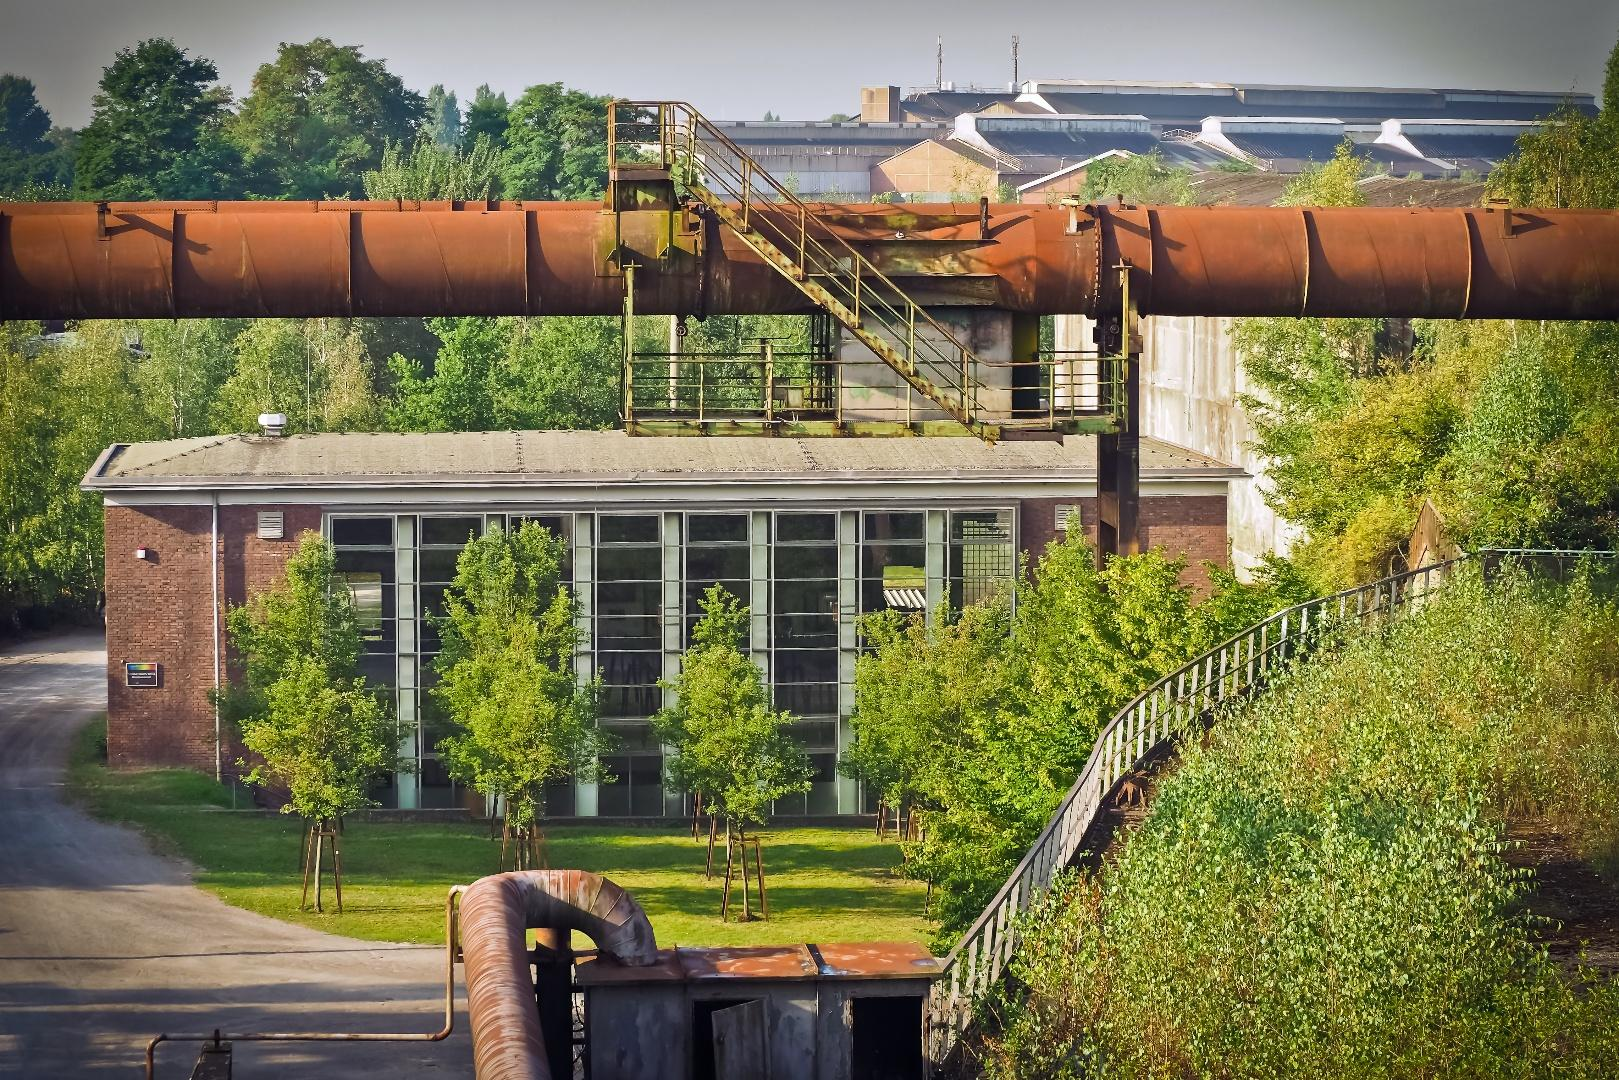trashbox-cardboard: (732, 1033, 1227, 1080)
